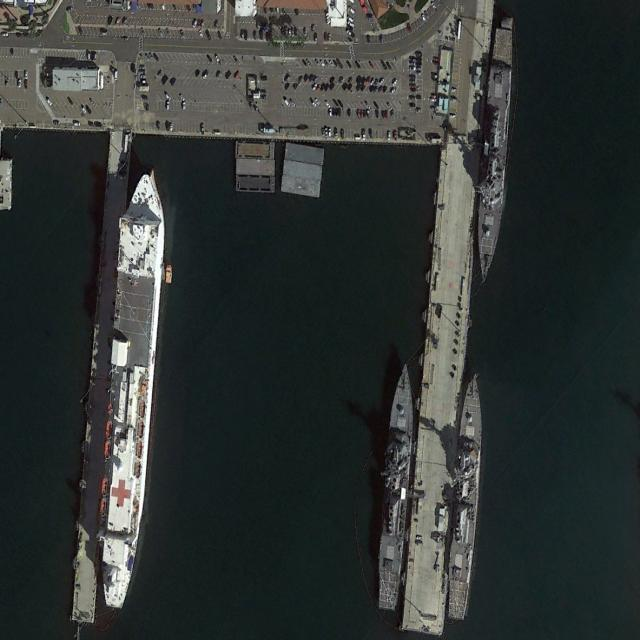Auxiliary Ships: (90, 170, 168, 613)
Destroyer: (373, 358, 417, 611), (444, 372, 487, 622)
Other Ship: (473, 26, 515, 284)
